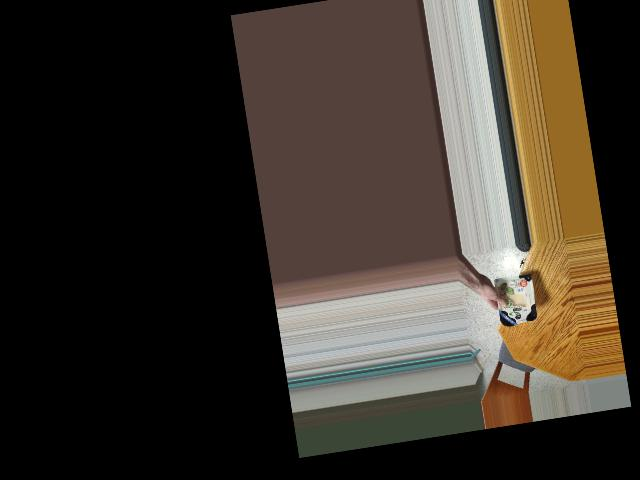cheese: (490, 270, 538, 328)
